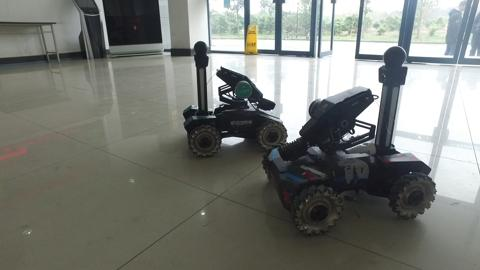chariot: (256, 44, 439, 241), (171, 38, 289, 157)
